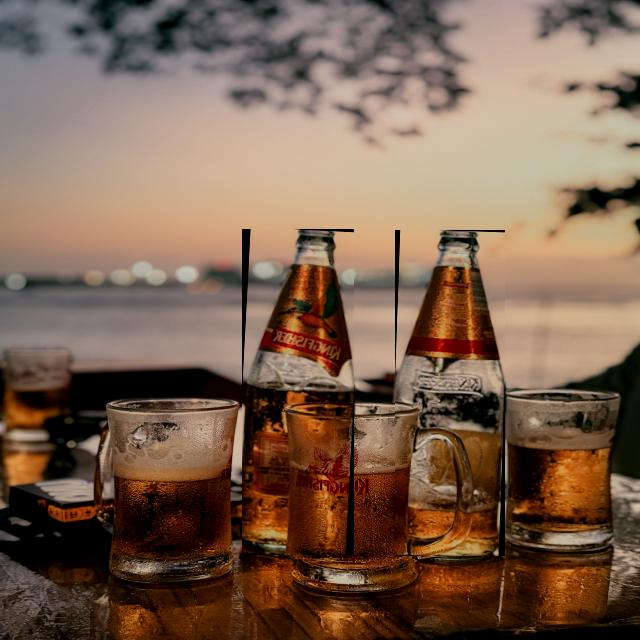Bottle: (241, 230, 353, 555), (394, 231, 503, 556)
